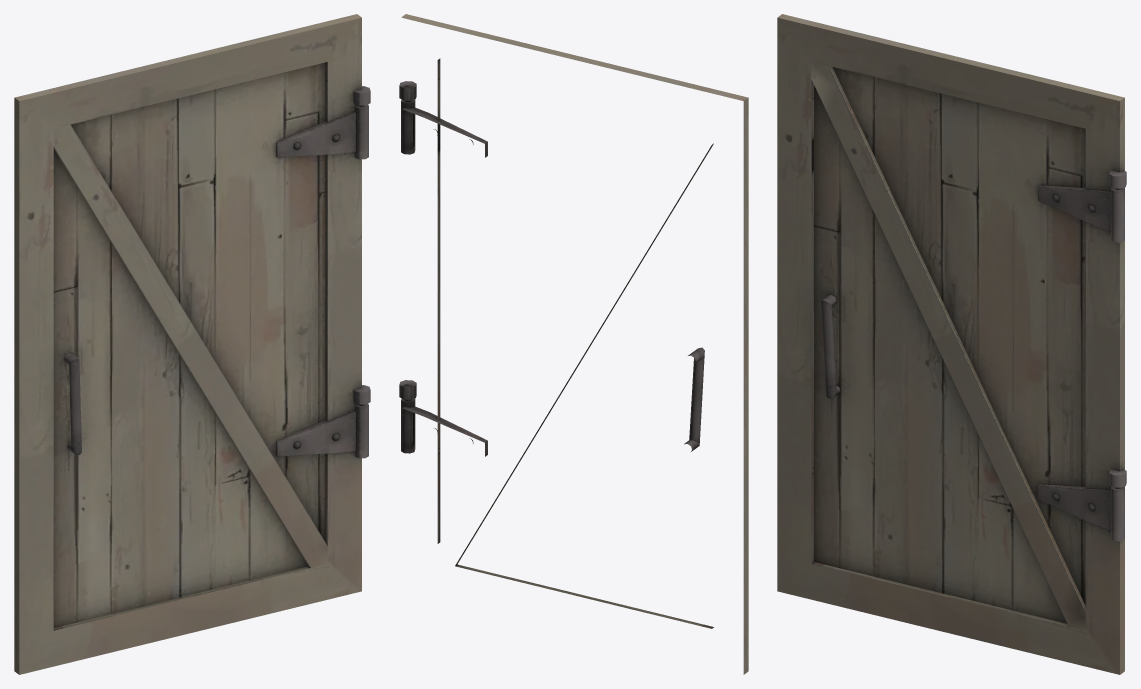
3 renders of one model, left to right at view 1: azimuth 30°, elevation 25°; view 2: azimuth 150°, elevation 25°; view 3: azimuth 330°, elevation 25°, orthographic.
Parts seen in each view (by area): view 1: body0_model0_lod0_mesh0; view 2: body0_model0_lod0_mesh0; view 3: body0_model0_lod0_mesh0.
Part boxes in pixels (x1,y1,x2,y2): body0_model0_lod0_mesh0: (14,14,370,674); body0_model0_lod0_mesh0: (399,14,748,674); body0_model0_lod0_mesh0: (777,14,1126,674).
Bounding box in the file's own units: 81.56 × 128 × 4.55.
1 material, 1 textured.
